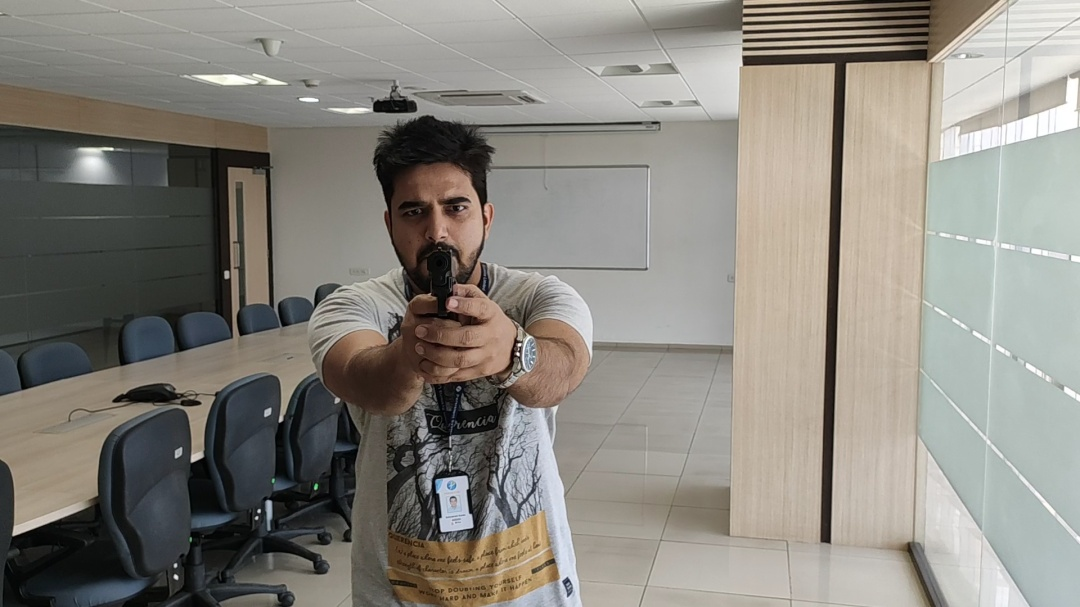gun: (415, 242, 476, 306)
